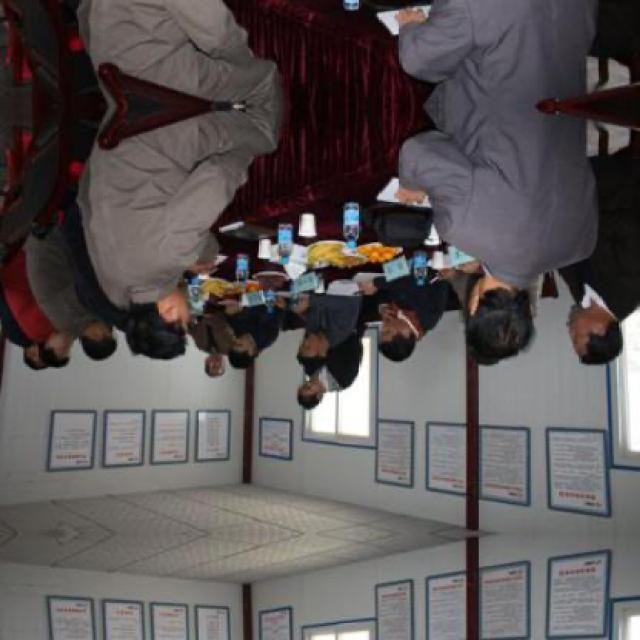sin casco: (449, 250, 547, 364), (115, 286, 222, 381), (551, 286, 632, 372), (355, 292, 432, 374), (274, 320, 340, 378), (294, 365, 343, 410)
